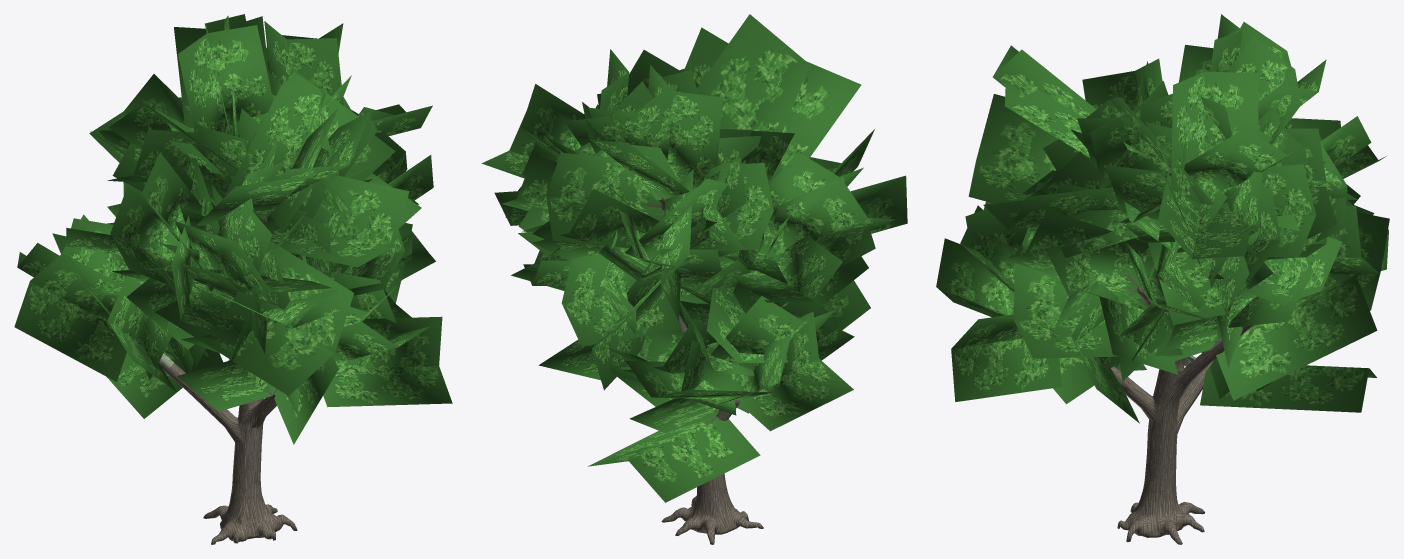
Rendered from environment_elm6_v59.fbx.
The picture shows the model from 3 angles, left to right: view 1: azimuth 30°, elevation 25°; view 2: azimuth 150°, elevation 25°; view 3: azimuth 270°, elevation 25°; orthographic projection. The views are drawn at different scales.
Visible parts, largest first — view 1: environment_elm6_v59_lod0; view 2: environment_elm6_v59_lod0; view 3: environment_elm6_v59_lod0.
Boxes of the visible parts, box(x1,y1,x2,y2) form: environment_elm6_v59_lod0: box(14, 14, 452, 544); environment_elm6_v59_lod0: box(481, 14, 907, 544); environment_elm6_v59_lod0: box(936, 14, 1389, 544).
Size of what is drawn, in the model's own units: 2279 by 2718 by 2222.
3 materials, 3 textured.
